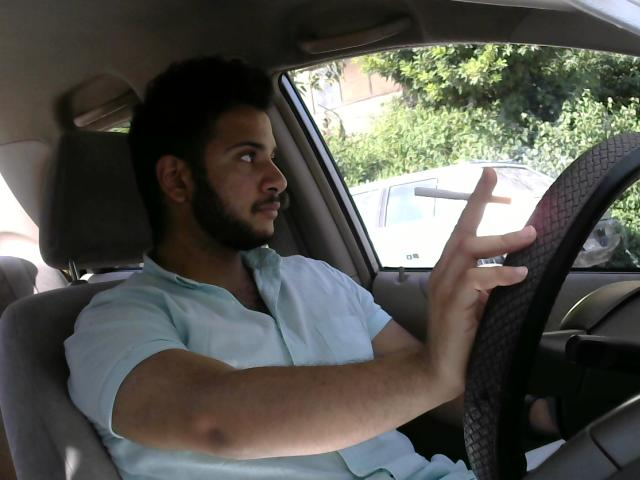Smoking: (411, 184, 512, 208)
